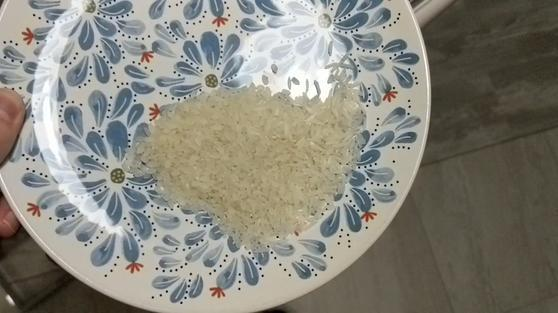rice: (132, 61, 379, 238)
